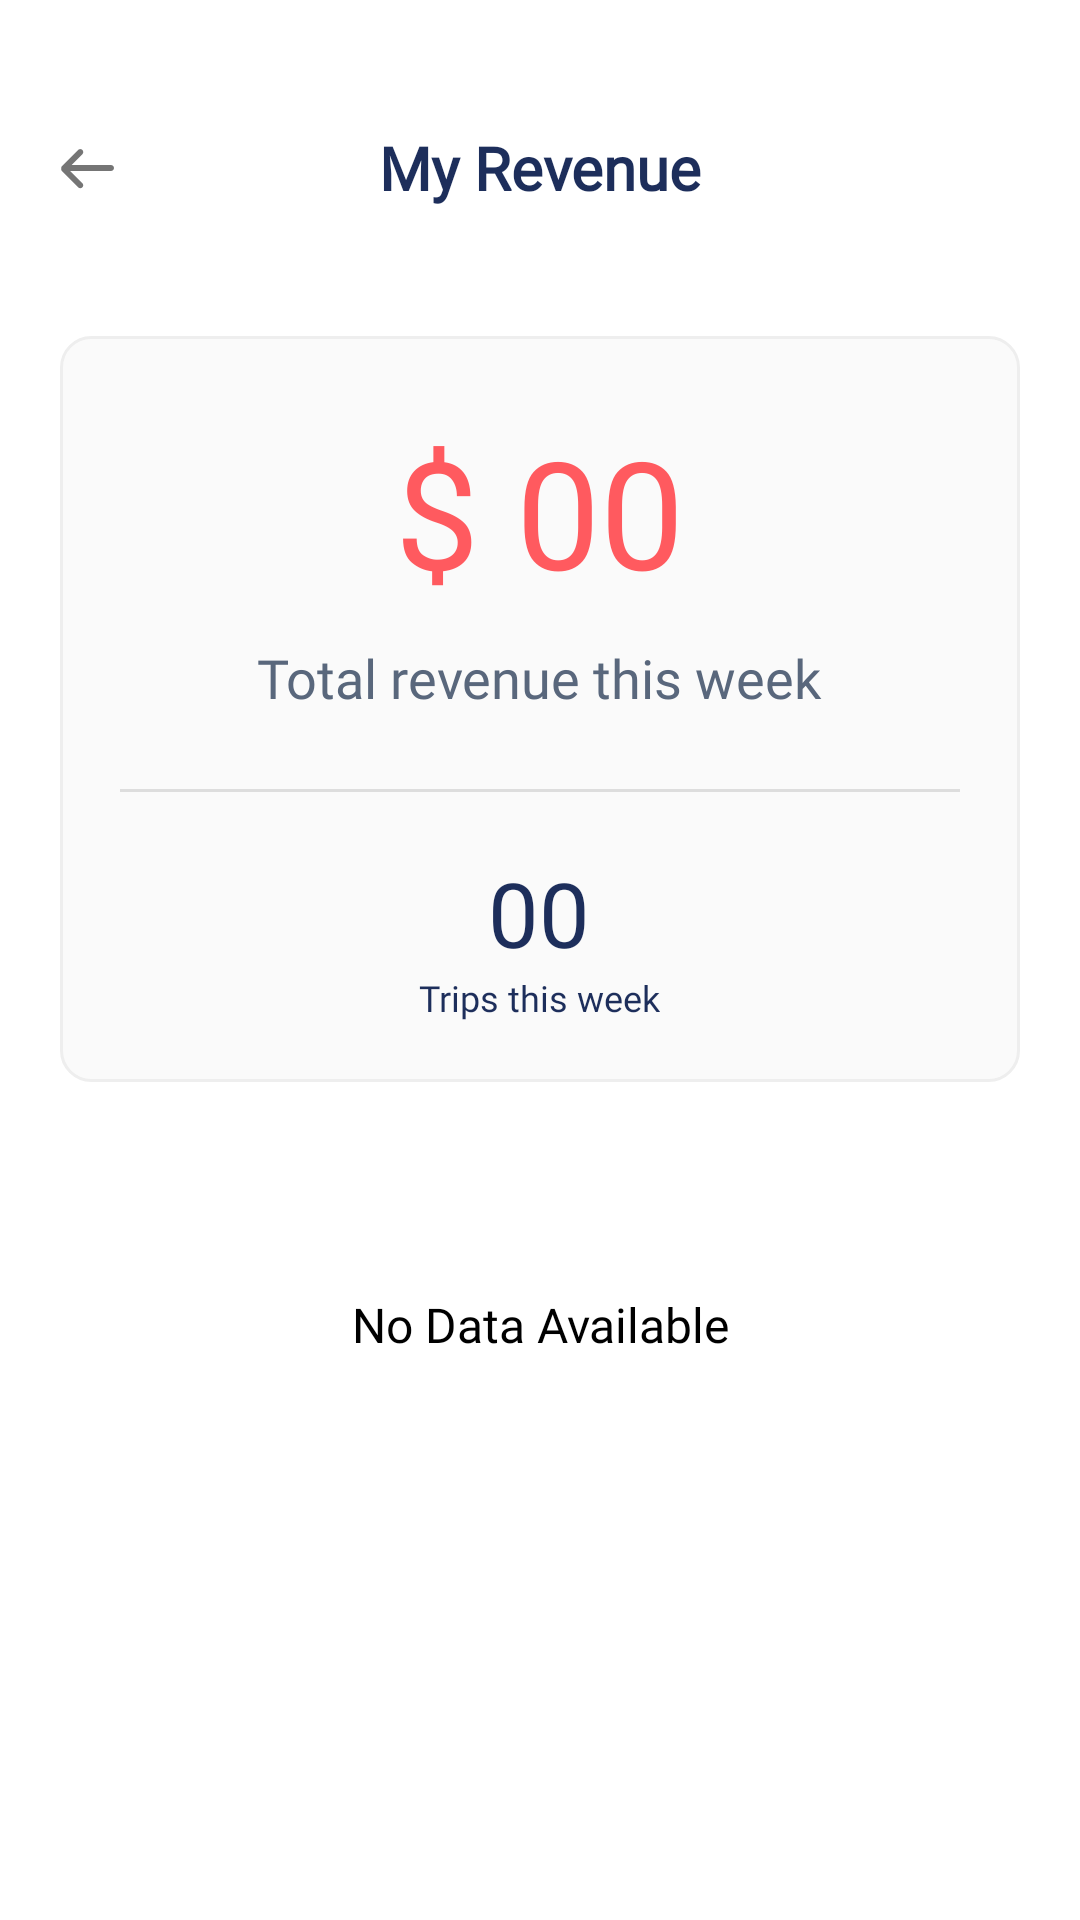

Named icons in this screenshot (1080 x 1920) and their centers, (x,y):
back: (87,169)
